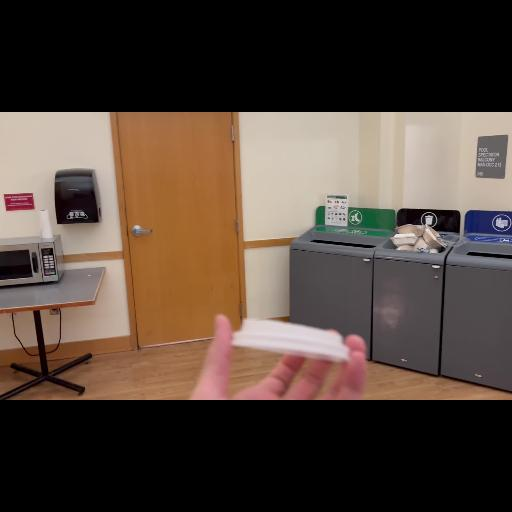lp_cup_lids: (227, 311, 357, 367)
